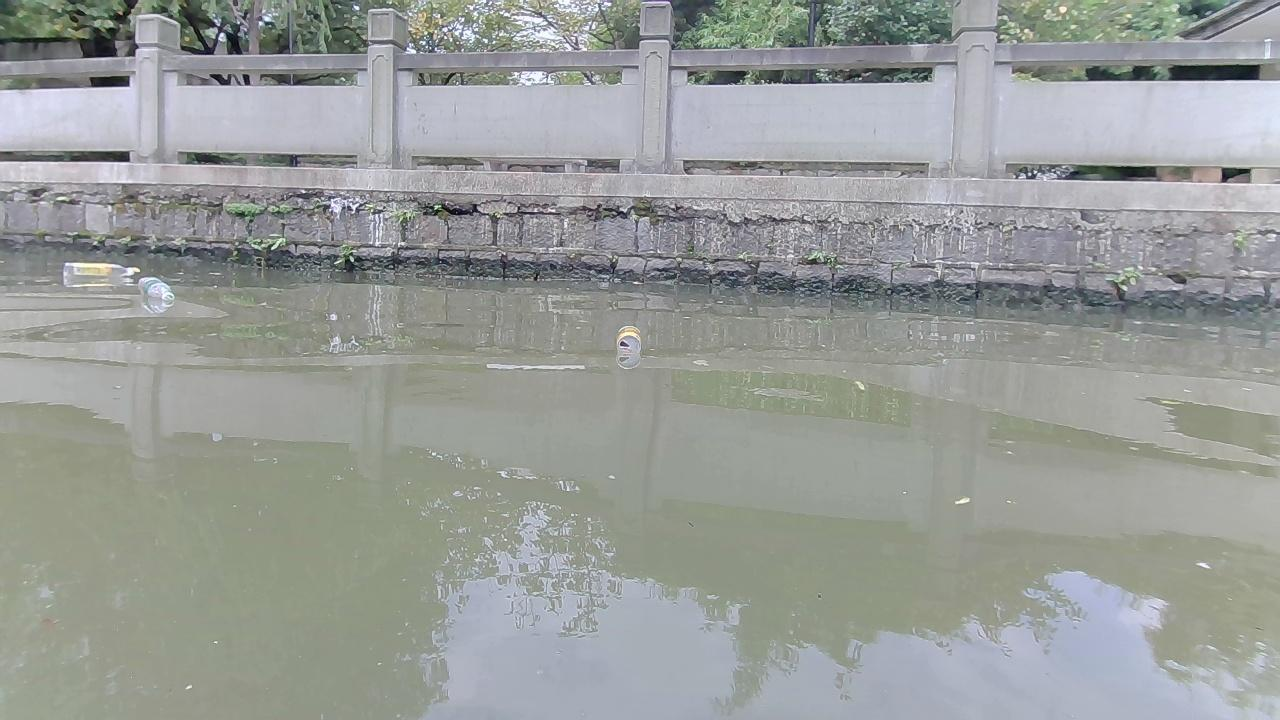bottle: (62, 261, 139, 275), (137, 275, 174, 299), (614, 325, 641, 351)
